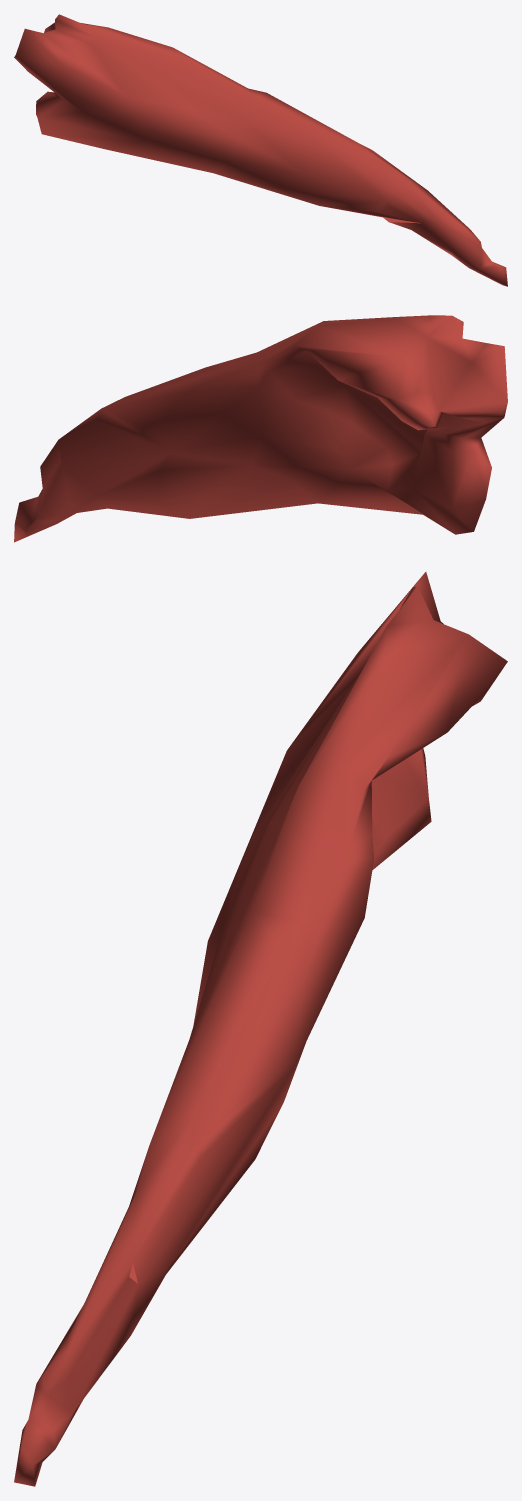
Rendered from musculos-oblique-head-of-adductor-pollicis-l.glb.
3 renders of one model, top to bottom at view 1: azimuth 30°, elevation 25°; view 2: azimuth 150°, elevation 25°; view 3: azimuth 270°, elevation 25°, orthographic. The views are drawn at different scales.
Parts seen in each view (by area): view 1: Oblique head of adductor pollicis.l; view 2: Oblique head of adductor pollicis.l; view 3: Oblique head of adductor pollicis.l.
Boxes of the visible parts, x1,y1,x2,y2 form: Oblique head of adductor pollicis.l: (14,14,507,286); Oblique head of adductor pollicis.l: (14,315,507,542); Oblique head of adductor pollicis.l: (14,572,507,1486).
Size of the model in its own units: 0.044 by 0.0311 by 0.0247.
